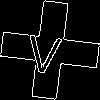V: (25, 25, 64, 75)
